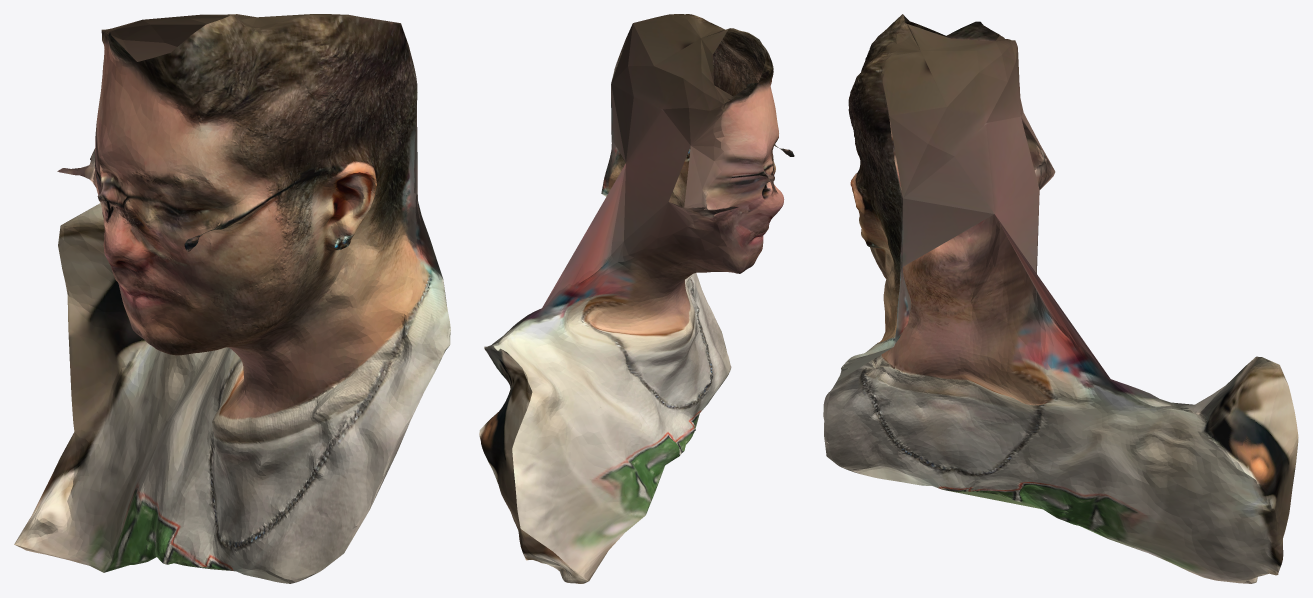
3 renders of one model, left to right at view 1: azimuth 30°, elevation 25°; view 2: azimuth 150°, elevation 25°; view 3: azimuth 270°, elevation 25°, orthographic. The views are drawn at different scales.
Parts seen in each view (by area): view 1: Mesh_0; view 2: Mesh_0; view 3: Mesh_0.
Part boxes in pixels (<box>): Mesh_0: <box>14,14,450,583</box>; Mesh_0: <box>479,14,794,583</box>; Mesh_0: <box>823,14,1298,583</box>.
Bounding box in the file's own units: 22.01 × 47.48 × 37.2.
Materials: 1 (1 with a texture image).
